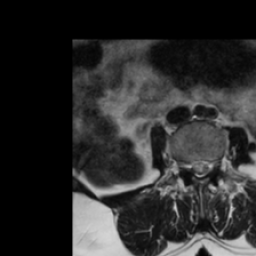CCS_normal: (196, 152, 202, 185)
LFS_stenosis: (210, 149, 221, 175)
LLS_normal: (202, 152, 210, 181)
RFS_normal: (182, 152, 189, 175)
RLS_normal: (189, 152, 196, 179)
